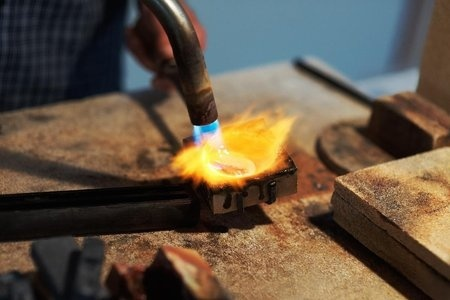fire: (170, 105, 295, 186)
